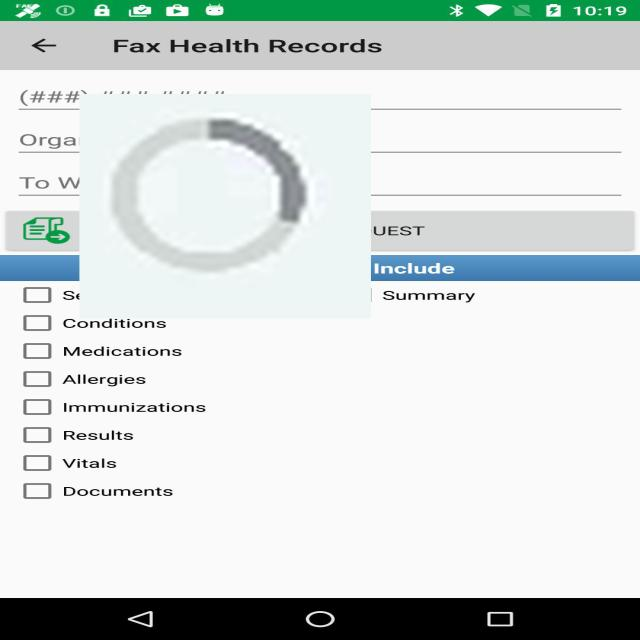misdirection: (79, 94, 371, 319)
